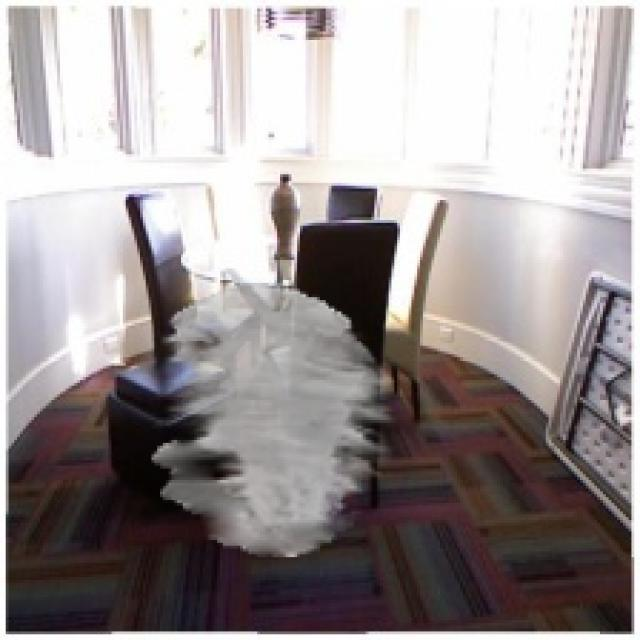smoke: (152, 283, 397, 557)
